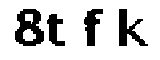8: (9, 7, 45, 50)
f: (79, 4, 106, 53)
k: (114, 5, 149, 52)
t: (48, 10, 73, 52)
